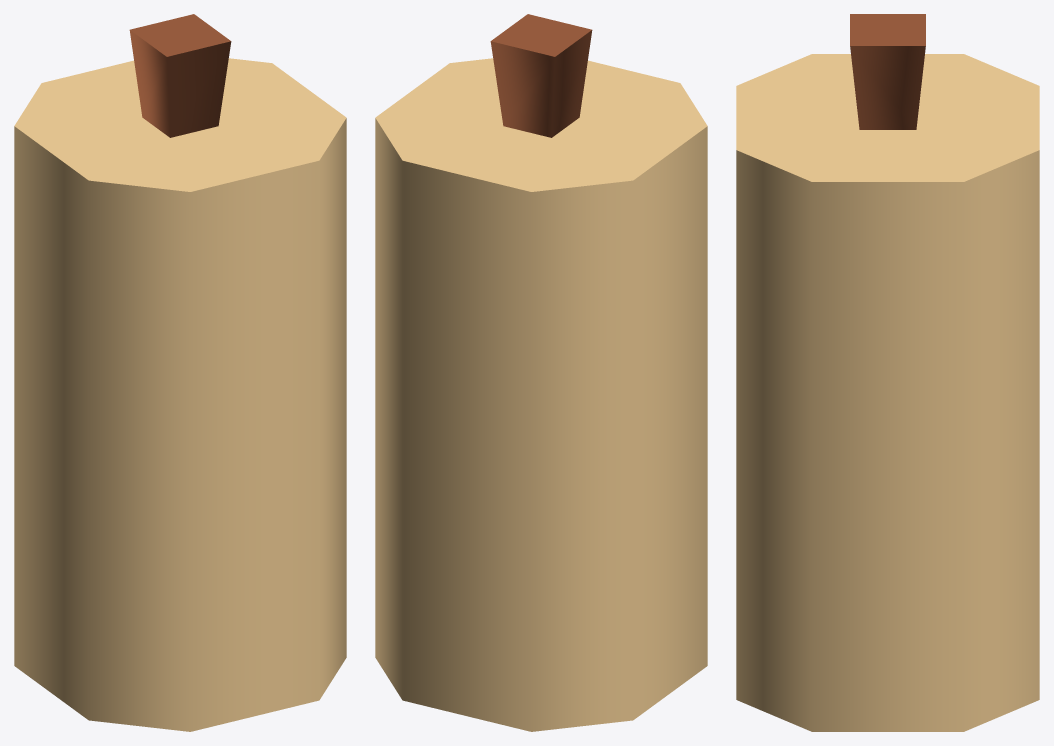
File: candle.obj
3 renders of one model, left to right at view 1: azimuth 30°, elevation 25°; view 2: azimuth 150°, elevation 25°; view 3: azimuth 270°, elevation 25°, orthographic.
Parts seen in each view (by area): view 1: candle; view 2: candle; view 3: candle.
Boxes of the visible parts, bbox=[...] form: candle: bbox=[14, 14, 346, 731]; candle: bbox=[375, 14, 707, 731]; candle: bbox=[736, 14, 1039, 731].
Size of the model in its own units: 0.05 by 0.116 by 0.05.
